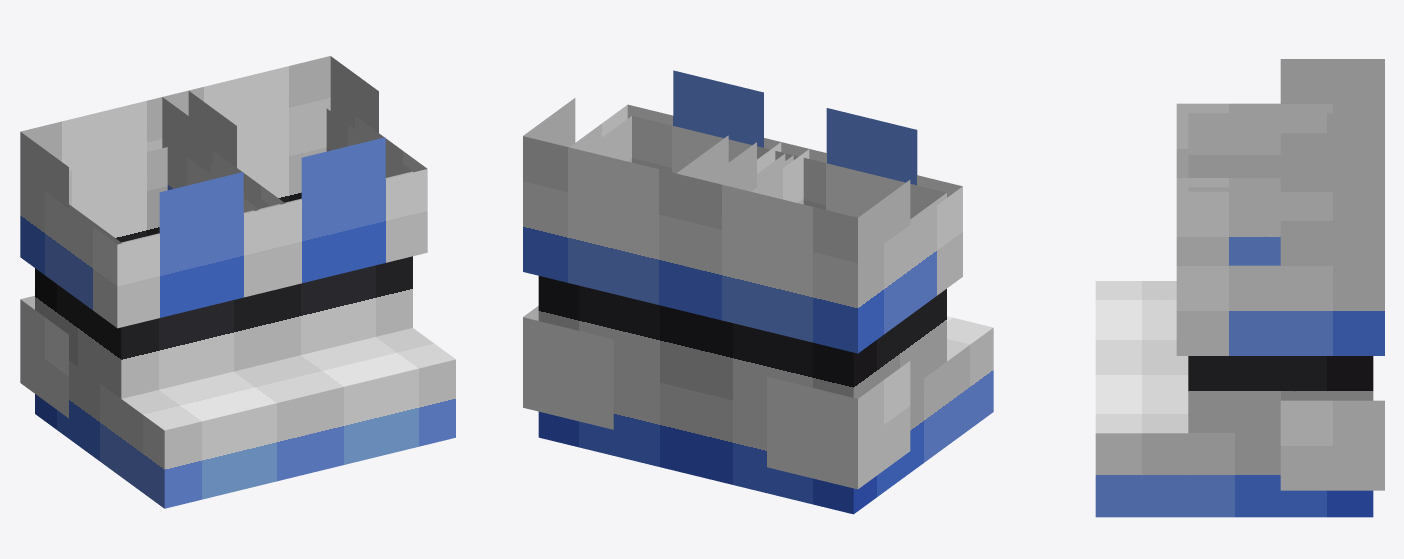
Rendered from sl_sci_fi_boots.glb.
3 views of the same model, side by side, from view 1: azimuth 30°, elevation 25°; view 2: azimuth 150°, elevation 25°; view 3: azimuth 270°, elevation 25° (orthographic). The views are drawn at different scales.
Visible parts, largest first — view 1: bb_sci_fi_boots; view 2: bb_sci_fi_boots; view 3: bb_sci_fi_boots.
Part boxes in pixels (<box>): bb_sci_fi_boots: <box>20,56,455,508</box>; bb_sci_fi_boots: <box>523,70,993,514</box>; bb_sci_fi_boots: <box>1095,59,1384,517</box>.
Size of the model in its own units: 0.5312 by 0.5469 by 0.45.
1 material, 1 textured.
